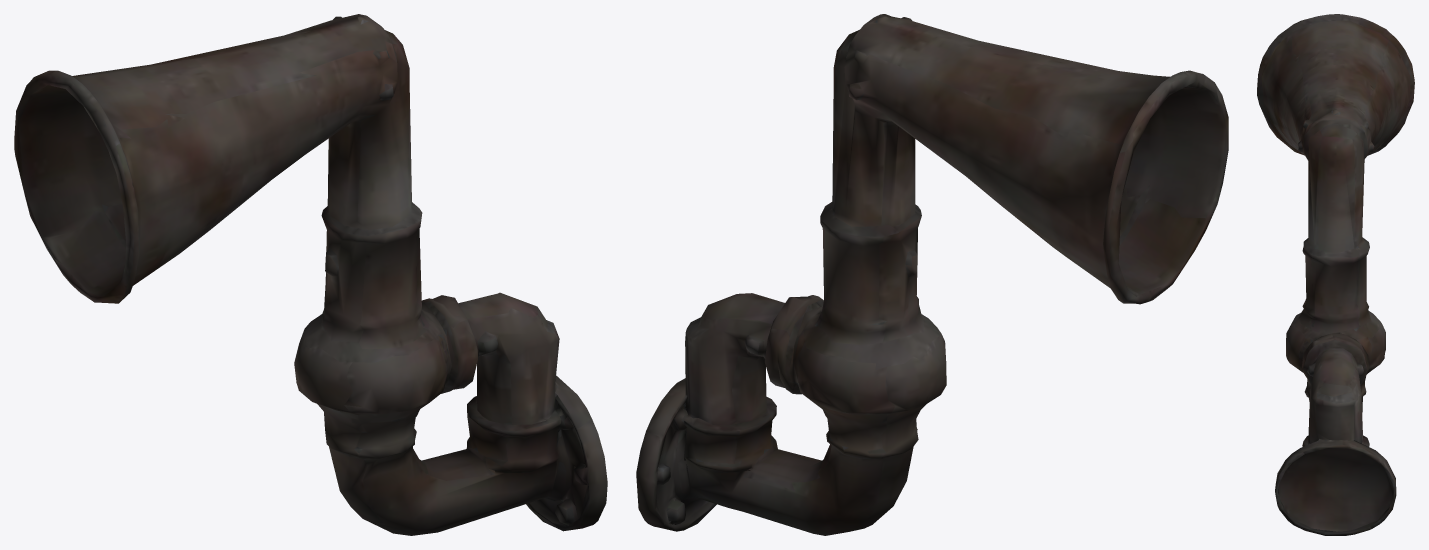
Rendered from ancient-iron-drainpipe-v003.glb.
3 renders of one model, left to right at view 1: azimuth 30°, elevation 25°; view 2: azimuth 150°, elevation 25°; view 3: azimuth 270°, elevation 25°, orthographic. The views are drawn at different scales.
Parts seen in each view (by area): view 1: ancient-iron-drainpipe; view 2: ancient-iron-drainpipe; view 3: ancient-iron-drainpipe.
Part boxes in pixels (box(x1,y1,x2,y2)): ancient-iron-drainpipe: box(14, 14, 607, 535); ancient-iron-drainpipe: box(636, 14, 1228, 535); ancient-iron-drainpipe: box(1257, 14, 1414, 535).
Bounding box in the file's own units: 3.06 × 3.3 × 1.29.
1 material, 1 textured.
